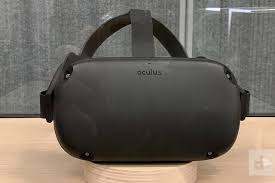oculus: (51, 52, 246, 166)
